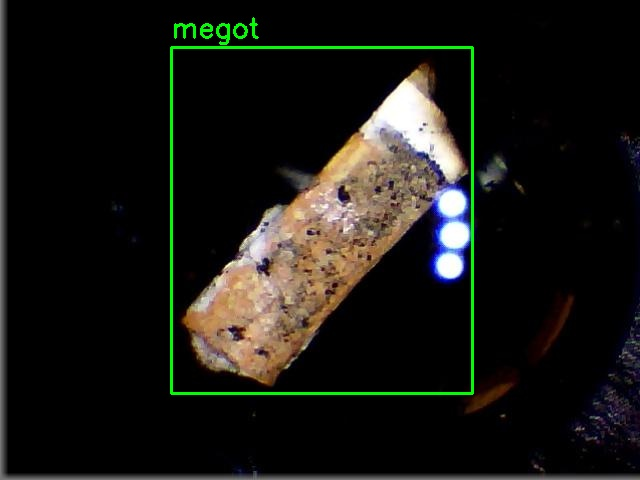megot: (171, 47, 472, 393)
